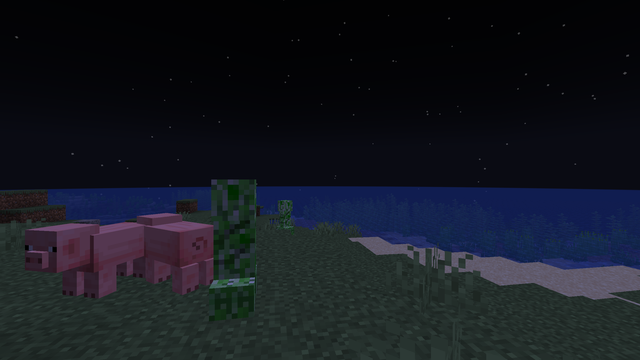cochons: (53, 221, 141, 299), (135, 220, 195, 293)
creepers: (205, 173, 260, 318), (278, 198, 291, 226)
